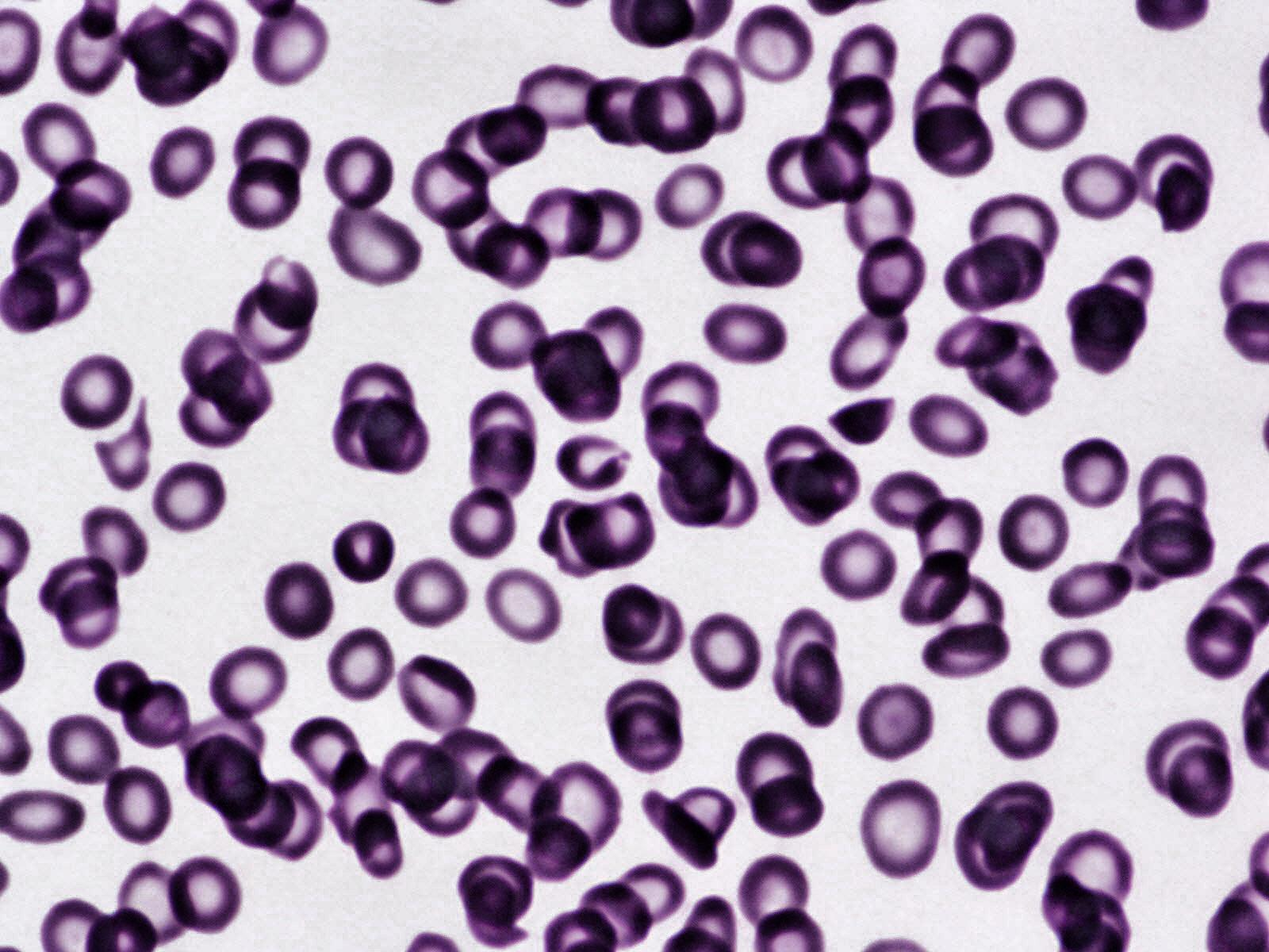Uninfected: (523, 761, 620, 877), (857, 776, 945, 884), (1110, 497, 1209, 593), (326, 198, 424, 292), (1043, 830, 1137, 923), (473, 750, 561, 845), (827, 298, 913, 393), (639, 355, 725, 447), (247, 0, 333, 92), (11, 192, 114, 267), (564, 489, 660, 568), (673, 42, 748, 143), (732, 2, 818, 90), (393, 654, 479, 739), (183, 732, 268, 818), (111, 862, 194, 950), (482, 564, 566, 650), (968, 196, 1060, 274), (934, 8, 1016, 95), (131, 18, 230, 90), (426, 725, 516, 804), (1145, 716, 1229, 800), (161, 853, 244, 938), (410, 148, 493, 233), (996, 488, 1075, 577), (1004, 74, 1089, 156), (678, 439, 758, 526), (845, 175, 924, 263), (771, 609, 839, 711), (286, 715, 369, 798), (854, 680, 935, 765), (686, 609, 765, 696), (57, 350, 136, 437), (608, 681, 685, 770), (823, 21, 899, 111), (578, 71, 669, 146), (232, 281, 314, 364), (1133, 132, 1213, 217), (230, 117, 311, 200), (968, 777, 1055, 854), (401, 754, 479, 839), (762, 136, 850, 211), (22, 106, 101, 189), (1060, 149, 1146, 225), (341, 359, 416, 446), (208, 643, 288, 724), (735, 730, 814, 812), (850, 236, 928, 319), (984, 681, 1061, 765), (1138, 453, 1209, 544), (918, 611, 1010, 681), (818, 526, 898, 606), (70, 504, 149, 585), (100, 761, 175, 846), (447, 478, 521, 564), (1183, 598, 1256, 685), (801, 118, 874, 205), (332, 746, 393, 850), (906, 105, 994, 177), (956, 804, 1028, 892), (653, 448, 732, 528), (640, 790, 719, 870), (54, 10, 125, 99), (535, 497, 613, 578), (151, 457, 228, 539), (734, 853, 811, 935), (530, 330, 613, 406), (472, 299, 554, 375), (633, 76, 715, 152), (35, 550, 118, 625), (822, 74, 896, 158), (43, 712, 123, 789), (324, 623, 400, 704), (1044, 555, 1131, 625), (115, 674, 192, 753), (392, 555, 468, 635), (907, 389, 988, 464), (964, 321, 1046, 395), (332, 395, 409, 473), (546, 344, 623, 422), (765, 424, 843, 501), (444, 192, 513, 279), (49, 158, 132, 230), (516, 65, 605, 132), (1056, 435, 1133, 512), (932, 573, 1008, 651), (11, 254, 92, 327), (703, 299, 786, 370), (470, 423, 539, 508), (258, 776, 326, 862), (549, 428, 633, 497), (574, 306, 643, 390), (902, 554, 979, 629), (320, 135, 394, 213), (447, 111, 520, 190), (524, 187, 605, 258), (915, 63, 980, 151), (1064, 282, 1152, 347), (567, 187, 643, 261), (652, 161, 730, 233), (1091, 257, 1158, 340), (1040, 622, 1114, 697), (223, 774, 297, 849), (871, 472, 953, 539), (914, 499, 984, 577), (144, 124, 217, 198), (181, 374, 255, 447), (98, 395, 154, 491), (1167, 742, 1235, 821), (943, 244, 1024, 310), (704, 212, 777, 285), (328, 516, 401, 589), (179, 324, 248, 401), (232, 155, 301, 232), (767, 454, 838, 528), (381, 742, 457, 811), (263, 557, 329, 636), (973, 232, 1046, 303), (986, 346, 1059, 417), (729, 219, 803, 289), (364, 397, 430, 475), (609, 593, 682, 663), (207, 352, 274, 428), (478, 221, 554, 288), (577, 880, 650, 949), (1072, 299, 1138, 375), (1139, 517, 1216, 582), (134, 44, 213, 107), (460, 853, 531, 923), (468, 393, 536, 464), (60, 575, 123, 651), (608, 863, 685, 925), (643, 402, 709, 474), (794, 447, 861, 517), (934, 316, 1019, 371), (520, 818, 589, 885), (792, 642, 843, 732), (754, 774, 828, 836), (663, 786, 734, 850), (478, 102, 550, 165), (125, 6, 189, 76), (258, 258, 317, 333), (600, 582, 664, 649), (0, 265, 62, 334), (351, 805, 403, 885), (1156, 159, 1210, 234), (92, 660, 154, 716), (829, 397, 897, 444)
